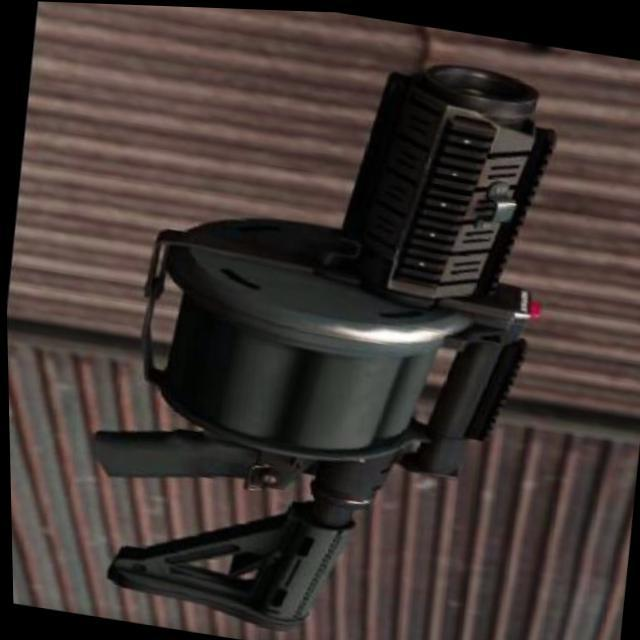weapon: (60, 6, 577, 640)
